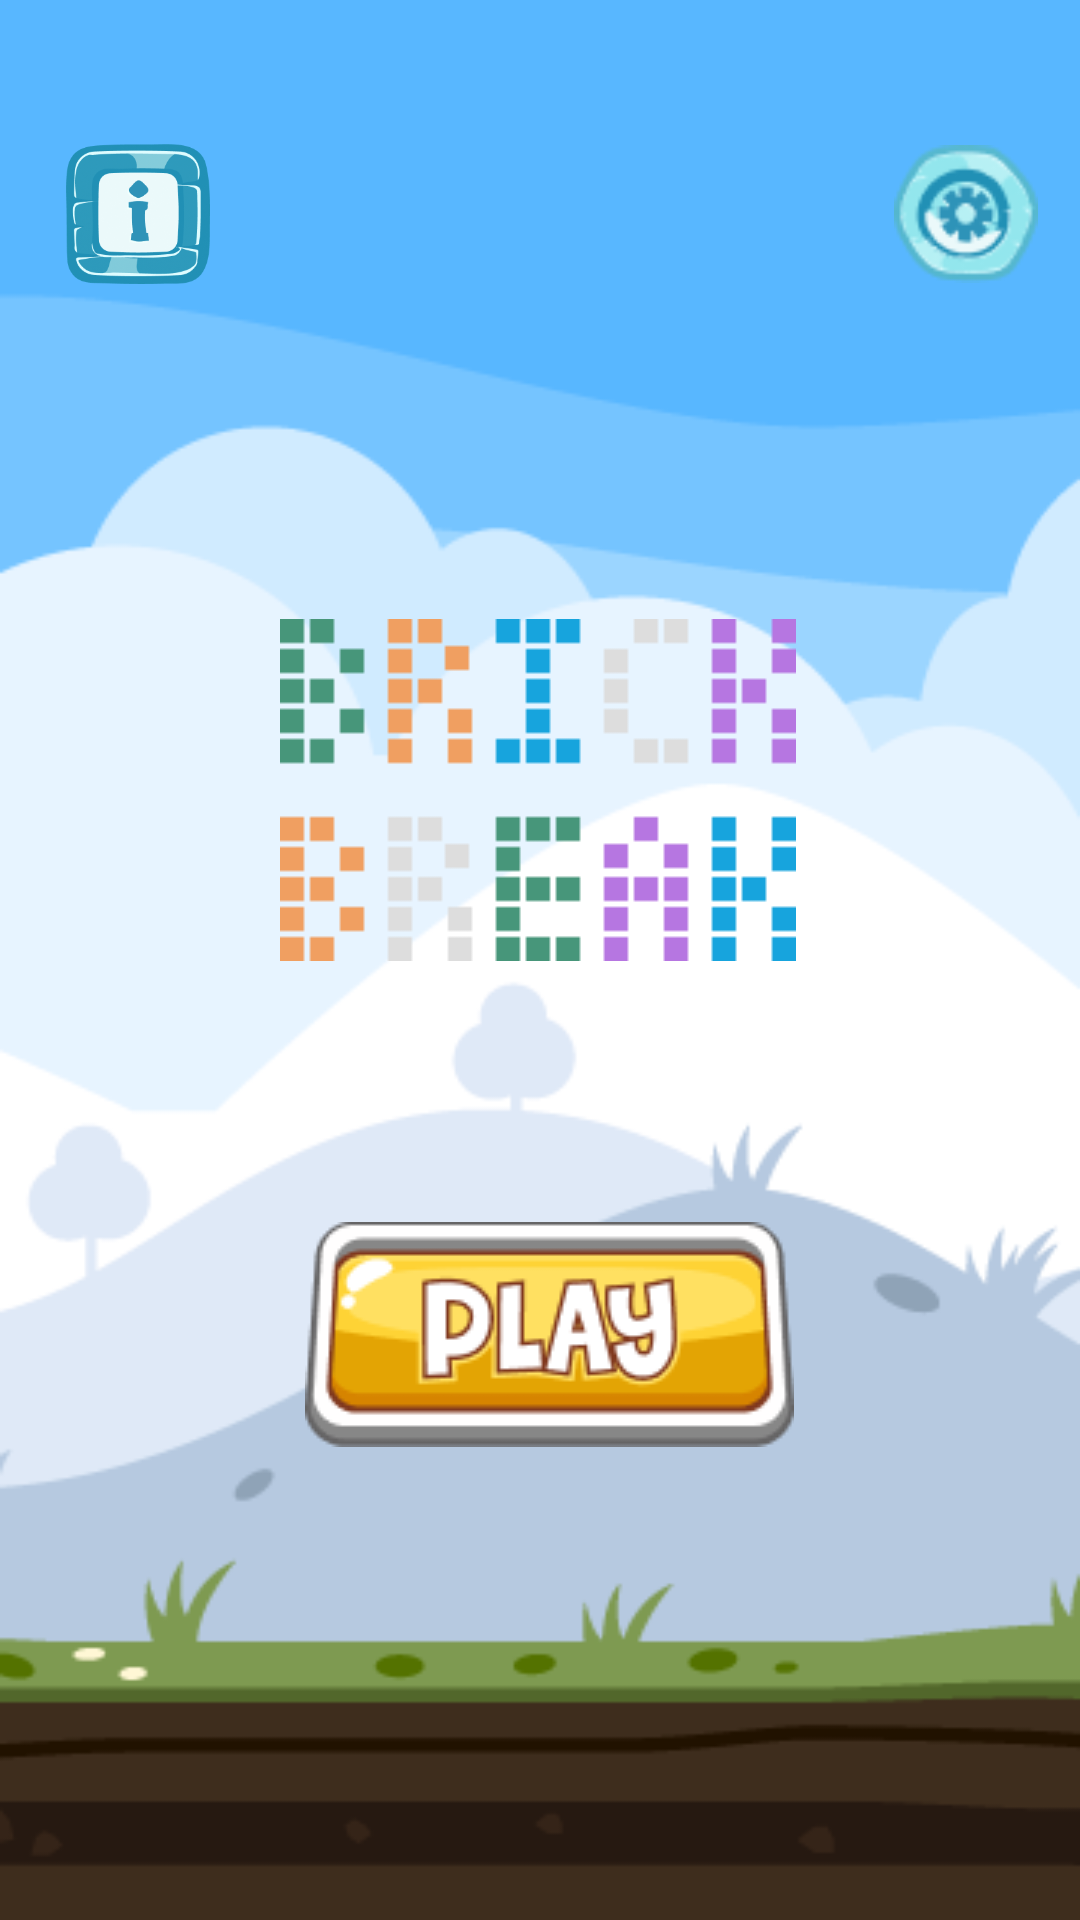

Named icons in this screenshot (1080px×1920px) and their centers, (x,y):
info: (138,214)
settings: (966,212)
